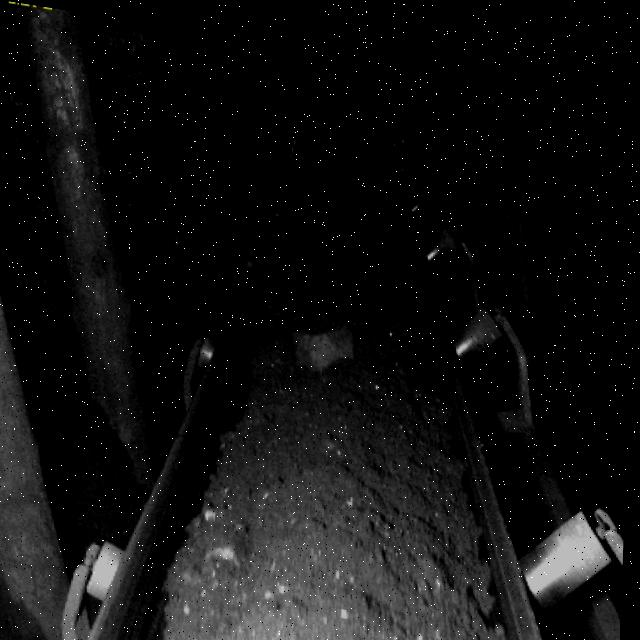large_sized_coal: (293, 301, 360, 365)
